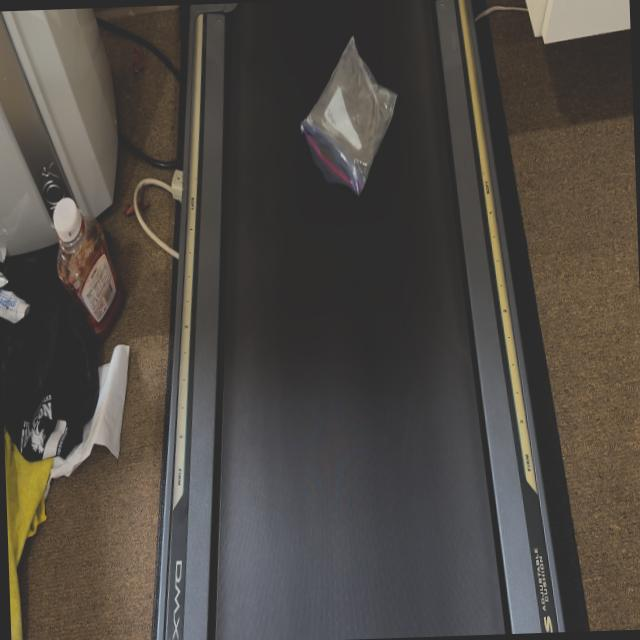Trash: (296, 35, 402, 198)
